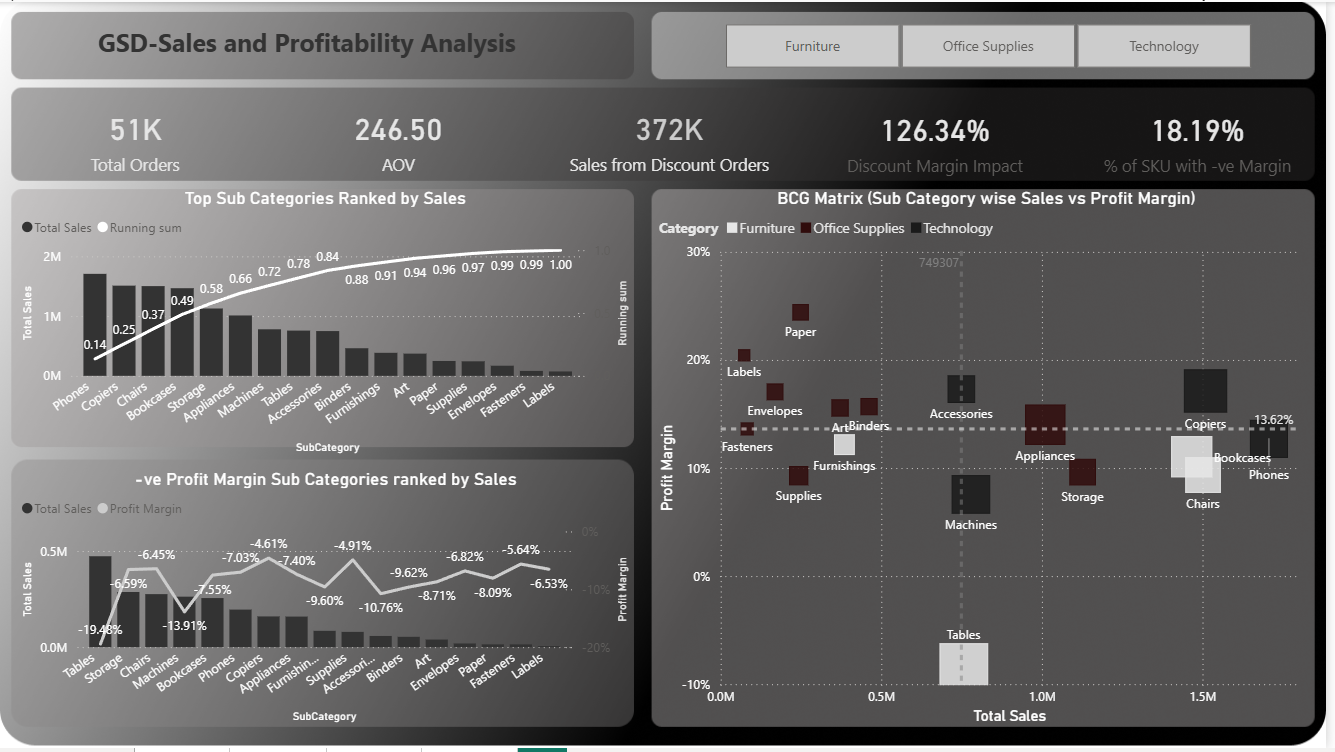

The dashboard page shown, as its layout file describes it:
{"tool":"powerbi","page":{"name":"Page 2","canvas":[1280,720],"ordinal":1},"visuals":[{"type":"card","fields":{"Values":["_Measures._-ve Margin %"]},"box":[1035.8,77.3,239,112.4],"z":0},{"type":"lineClusteredColumnComboChart","title":"Top Sub Categories Ranked by Sales","fields":{"Y":["_Measures.Total Sales","select"],"Category":["Dim_Product.SubCategory"],"Y2":["select1"]},"box":[15.5,178.3,596.9,262.3],"z":1000},{"type":"card","fields":{"Values":["_Measures.Total Orders"]},"box":[15.5,76,230,112.4],"z":2000},{"type":"card","fields":{"Values":["_Measures.AOV"]},"box":[259.3,76,250.6,112.4],"z":3000},{"type":"card","fields":{"Values":["_Measures.Revenue from Discount"]},"box":[523.9,76,245.5,112.4],"z":4000},{"type":"card","fields":{"Values":["_Measures.Discount Margin Impact"]},"box":[783.2,77.3,239,112.4],"z":5000},{"type":"scatterChart","title":"BCG Matrix (Sub Category wise Sales vs Profit Margin)","fields":{"Category":["Dim_Product.SubCategory"],"X":["_Measures.Total Sales"],"Y":["_Measures.Profit Margin"],"Series":["Dim_Product.Category"],"Size":["_Measures.AOV"]},"box":[631,178.6,641.8,523.6],"z":6000},{"type":"lineStackedColumnComboChart","title":"-ve Profit Margin Sub Categories ranked by Sales","fields":{"Category":["Dim_Product.SubCategory","Dim_Product.Product Name"],"Y":["_Measures.Total Sales"],"Y2":["_Measures.Profit Margin"]},"box":[15.5,449.6,596.9,250.6],"z":7000},{"type":"slicer","fields":{"Values":["Dim_Product.Category"]},"box":[674.4,14.2,556.8,55.6],"z":8000},{"type":"textbox","box":[82,18.1,428.3,59.1],"z":8001}]}

Visuals, with their boxes in screenshot pixels (x1, y1, x2, y2), scaled from the page's 1280x720 canvas onto the 1335x752 screenshot:
card - _Measures._-ve Margin %: pyautogui.locateOnScreen(1080, 81, 1330, 198)
"Top Sub Categories Ranked by Sales" lineClusteredColumnComboChart: pyautogui.locateOnScreen(16, 186, 639, 460)
card - _Measures.Total Orders: pyautogui.locateOnScreen(16, 79, 256, 197)
card - _Measures.AOV: pyautogui.locateOnScreen(270, 79, 532, 197)
card - _Measures.Revenue from Discount: pyautogui.locateOnScreen(546, 79, 802, 197)
card - _Measures.Discount Margin Impact: pyautogui.locateOnScreen(817, 81, 1066, 198)
"BCG Matrix (Sub Category wise Sales vs Profit Margin)" scatterChart: pyautogui.locateOnScreen(658, 187, 1327, 733)
"-ve Profit Margin Sub Categories ranked by Sales" lineStackedColumnComboChart: pyautogui.locateOnScreen(16, 470, 639, 731)
slicer - Dim_Product.Category: pyautogui.locateOnScreen(703, 15, 1284, 73)
textbox: pyautogui.locateOnScreen(86, 19, 532, 81)
